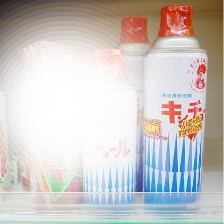aerosol_cans: (140, 1, 211, 224), (107, 10, 167, 198), (22, 38, 84, 219), (78, 44, 141, 222), (13, 42, 63, 198)
